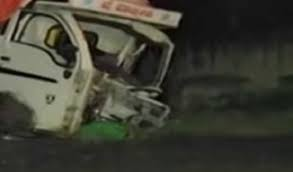accident: (6, 3, 211, 141)
